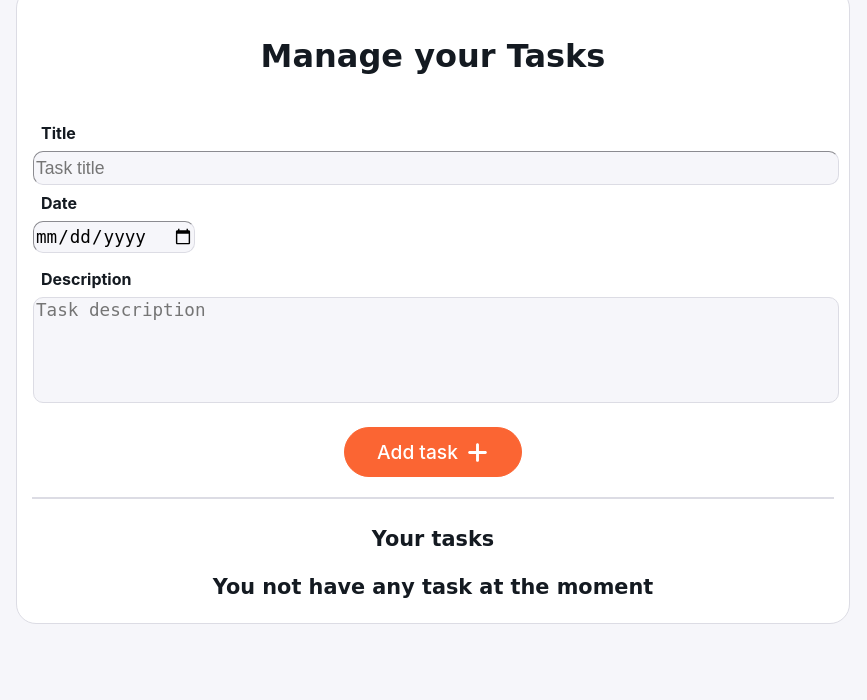
Test: Should save an edited Task and render edited task
Type "2024-12-25" into the date field with placeholder "Task date" at [114, 237], box 33,221 -> 195,253
Type "Test description" into the text box with placeholder "Task description" at [436, 350], box 33,297 -> 839,403
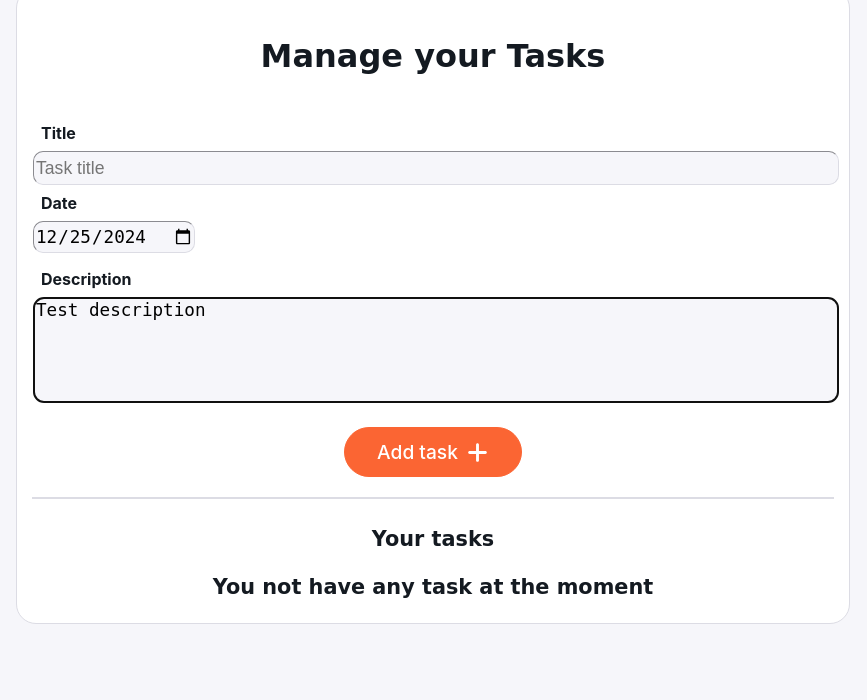
Type "Test" into the field with placeholder "Task title" at [436, 168], box 33,151 -> 839,185
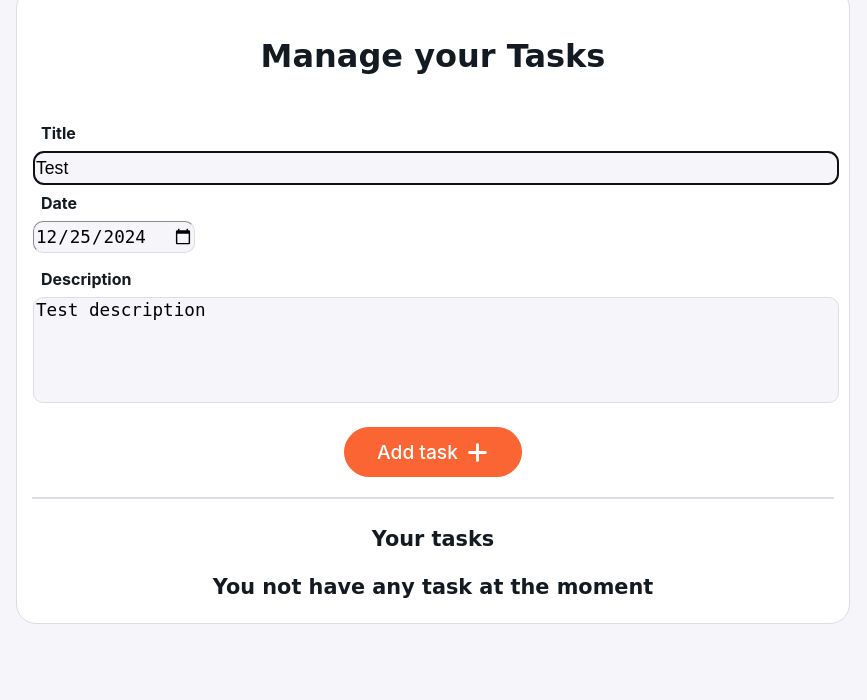
Click the button "Add task" at [433, 452], box 344,427 -> 522,477
(page scrolled)
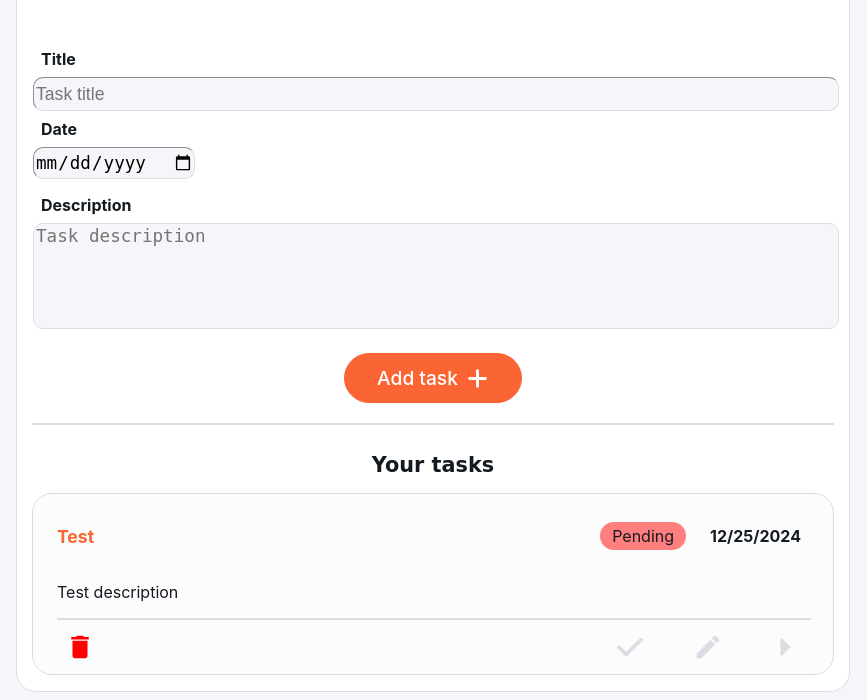
Click the 4th icon at [708, 647], box 685,632 -> 731,662
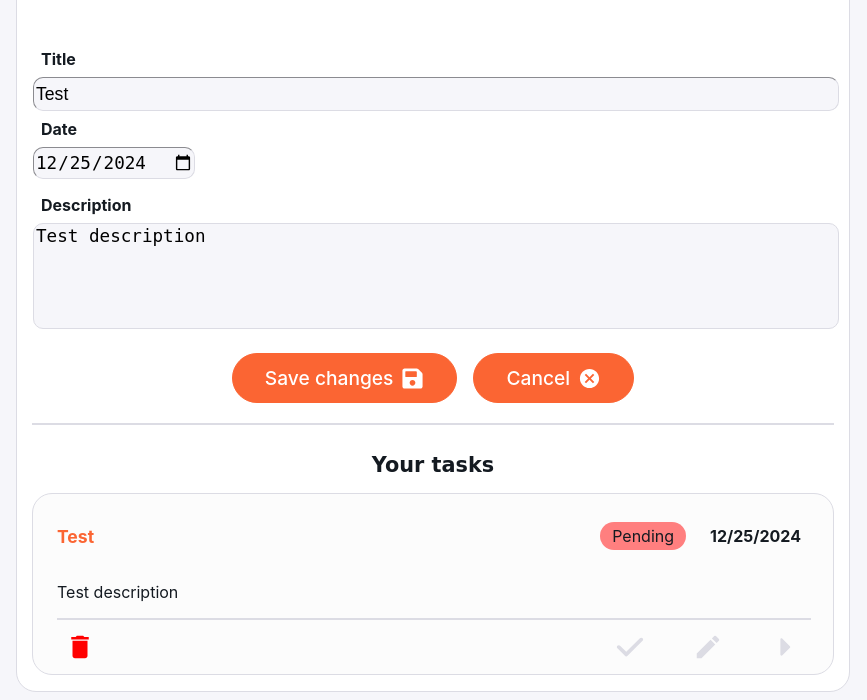
Type " edited" into the text box with placeholder "Task description" at [436, 276], box 33,223 -> 839,329
Type " edited" into the field with placeholder "Task title" at [436, 94], box 33,77 -> 839,111
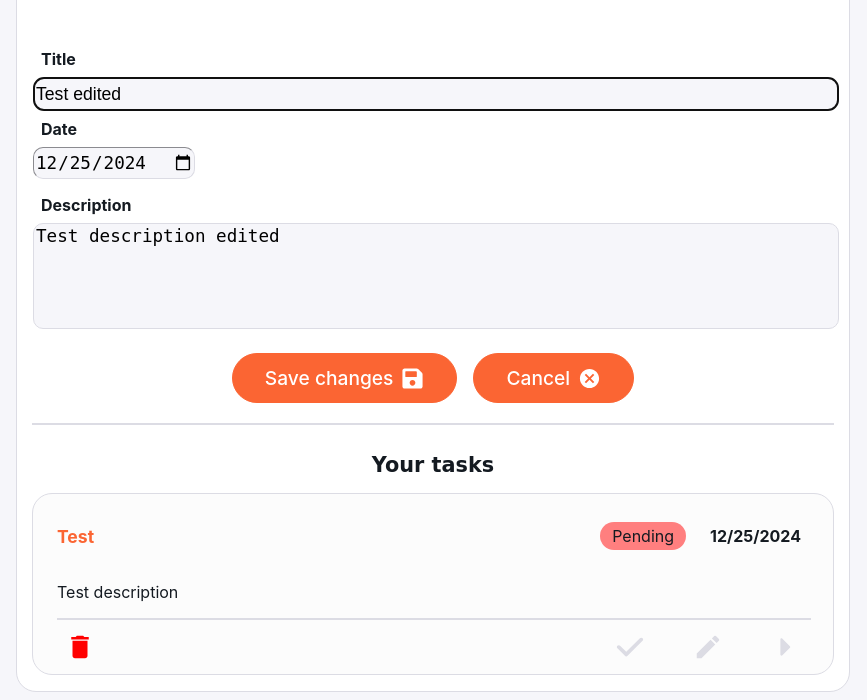
Click the button "Save changes" at [345, 378], box 232,353 -> 457,403
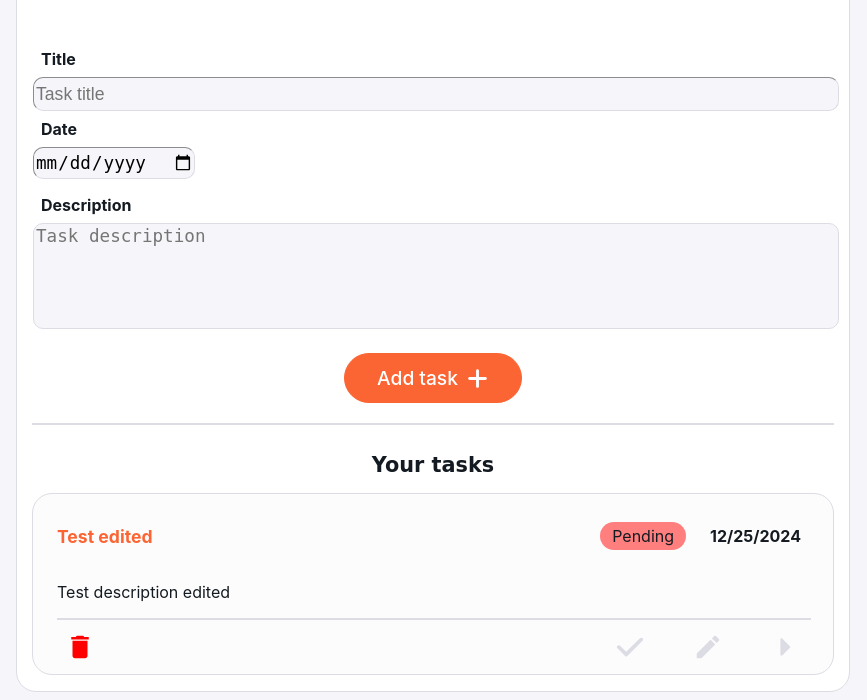
Expected: the text "Test description edited" is shown, 57,582 -> 230,602
Expected: the text "Test edited" is shown, 57,526 -> 152,546
